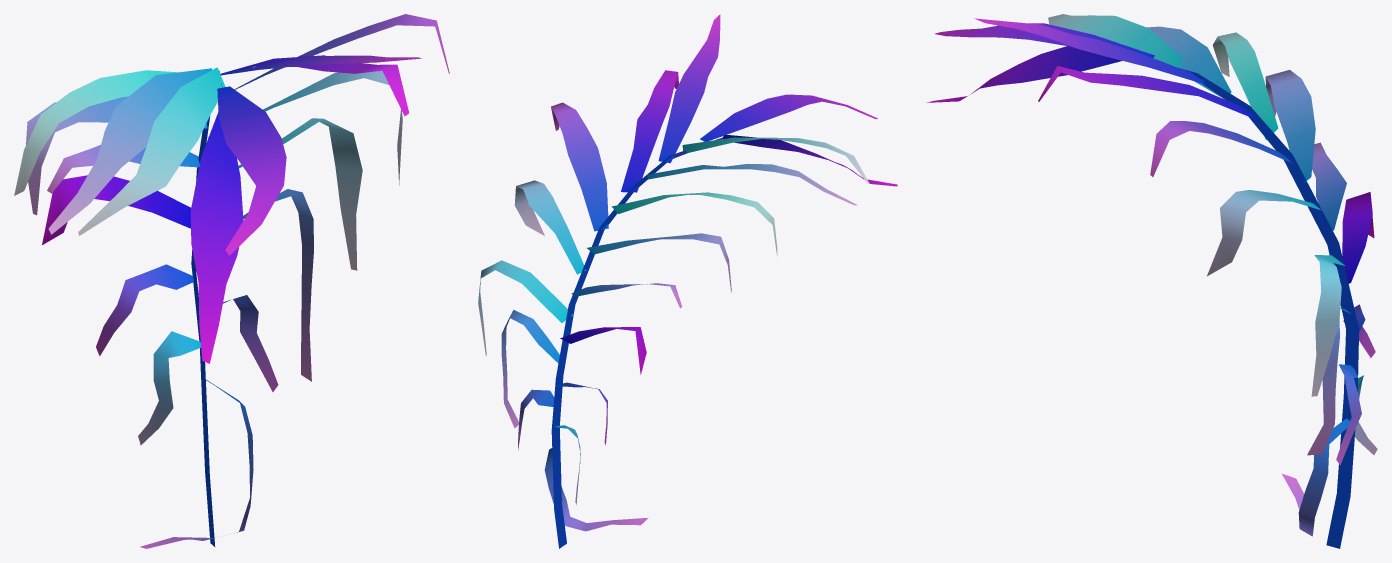
The model's file is Ginger_Plant_sgbmM_Low_sgbmM_VarB_LOD0.fbx.
3 renders of one model, left to right at view 1: azimuth 30°, elevation 25°; view 2: azimuth 150°, elevation 25°; view 3: azimuth 270°, elevation 25°, orthographic. The views are drawn at different scales.
Visible parts, largest first — view 1: _1815_VarB_LOD2; view 2: _1815_VarB_LOD2; view 3: _1815_VarB_LOD2.
Boxes of the visible parts, left/top/right/bottom form: _1815_VarB_LOD2: left=14, top=14, right=449, bottom=548; _1815_VarB_LOD2: left=478, top=14, right=897, bottom=548; _1815_VarB_LOD2: left=926, top=14, right=1377, bottom=548.
Size of the model in its own units: 80.35 by 113 by 88.51.
